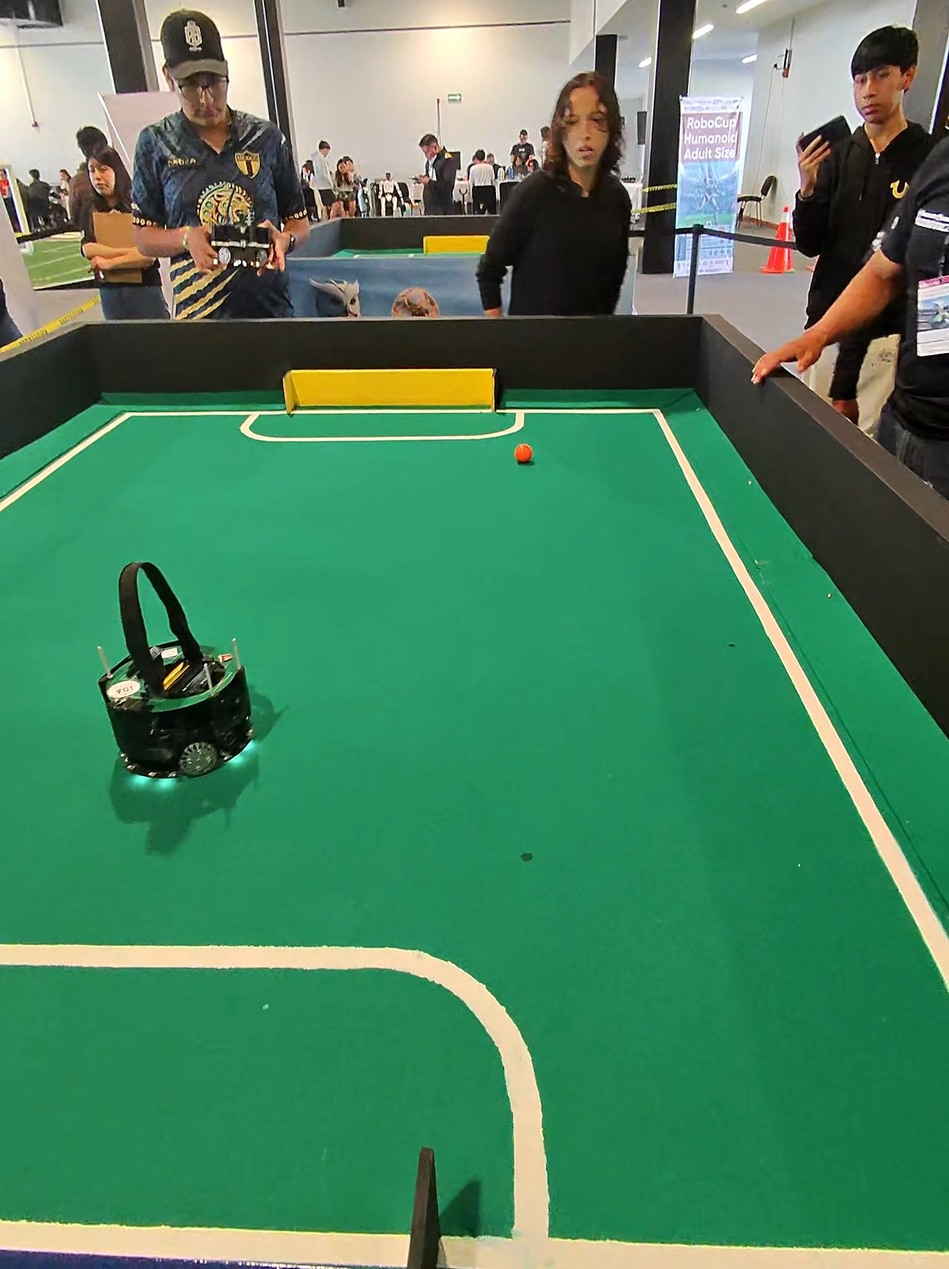Robot: (30, 537, 338, 833)
pelota: (493, 436, 554, 479)
